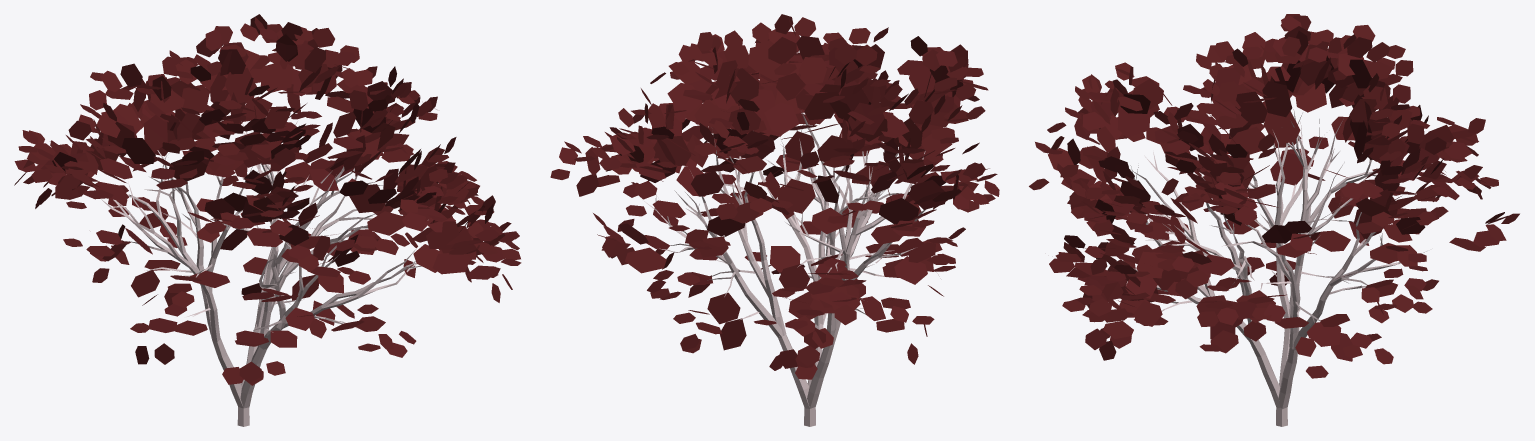
Rendered from grey_box_tree_red1.gltf.
3 renders of one model, left to right at view 1: azimuth 30°, elevation 25°; view 2: azimuth 150°, elevation 25°; view 3: azimuth 270°, elevation 25°, orthographic.
Visible parts, largest first — view 1: tree red; view 2: tree red; view 3: tree red.
Part boxes in pixels (x1,y1,x2,y2): tree red: (14,14,521,426); tree red: (550,14,999,426); tree red: (1029,14,1519,426).
Bounding box in the file's own units: 10.5 × 9.13 × 11.04.
Materials: 1 (1 with a texture image).
